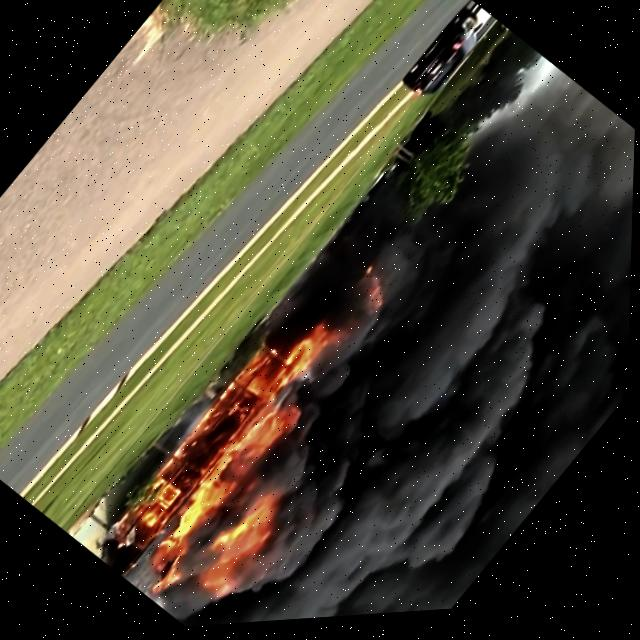Fire: (77, 237, 453, 635)
Smoke: (171, 101, 637, 630)
